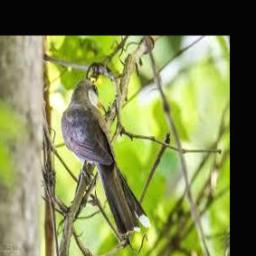Cuckoo: (61, 79, 152, 237)
